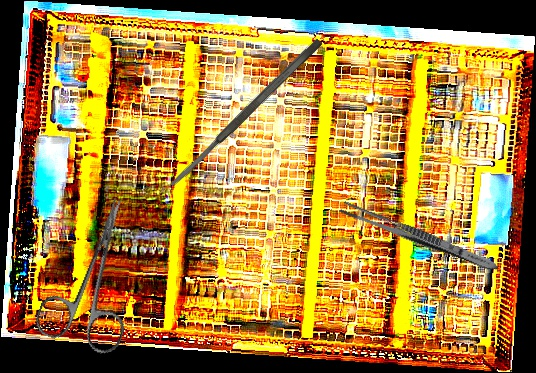Dressing Forceps: (336, 199, 502, 275)
Iris Scissors: (32, 186, 162, 359)
Spatula Surgical: (166, 36, 325, 190)
